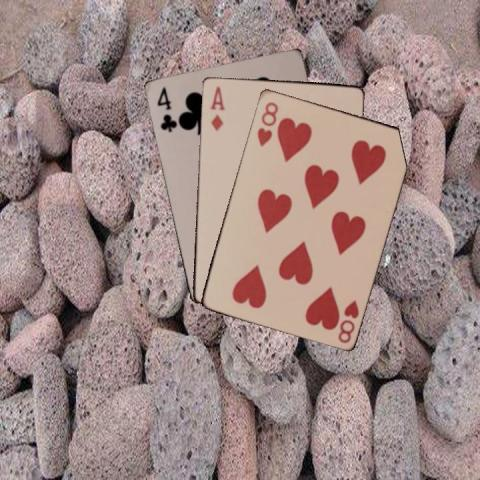4c: (154, 84, 178, 133)
8h: (254, 98, 279, 148), (335, 297, 360, 344)
Ad: (206, 82, 225, 132)
